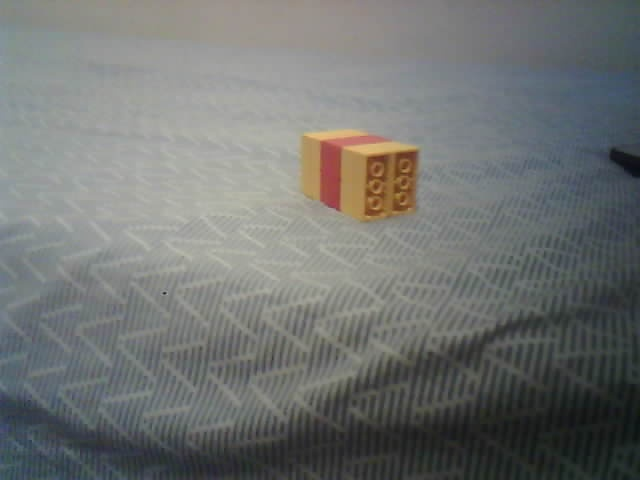lego: (299, 127, 421, 221)
